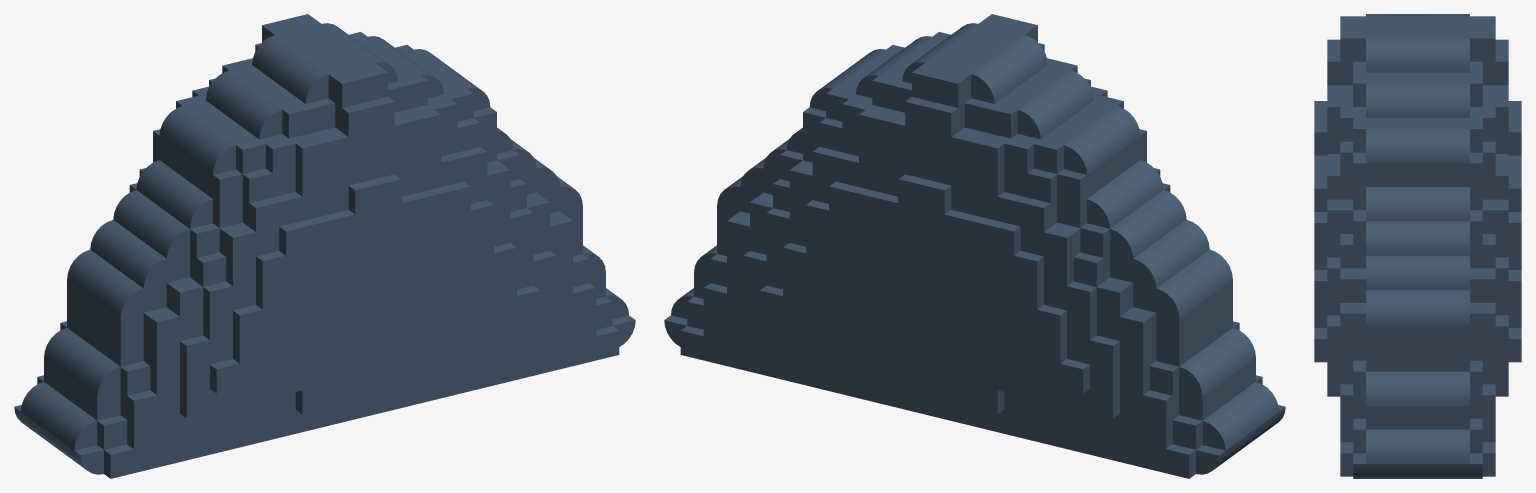
File: Rock.fbx
The picture shows the model from 3 angles, left to right: view 1: azimuth 30°, elevation 25°; view 2: azimuth 150°, elevation 25°; view 3: azimuth 270°, elevation 25°; orthographic projection. The views are drawn at different scales.
Visible parts, largest first — view 1: generated; view 2: generated; view 3: generated.
Boxes of the visible parts, x1,y1,x2,y2 form: generated: [14, 14, 635, 478]; generated: [664, 14, 1285, 478]; generated: [1314, 14, 1521, 478].
Size of the model in its own units: 240 by 140 by 80.
